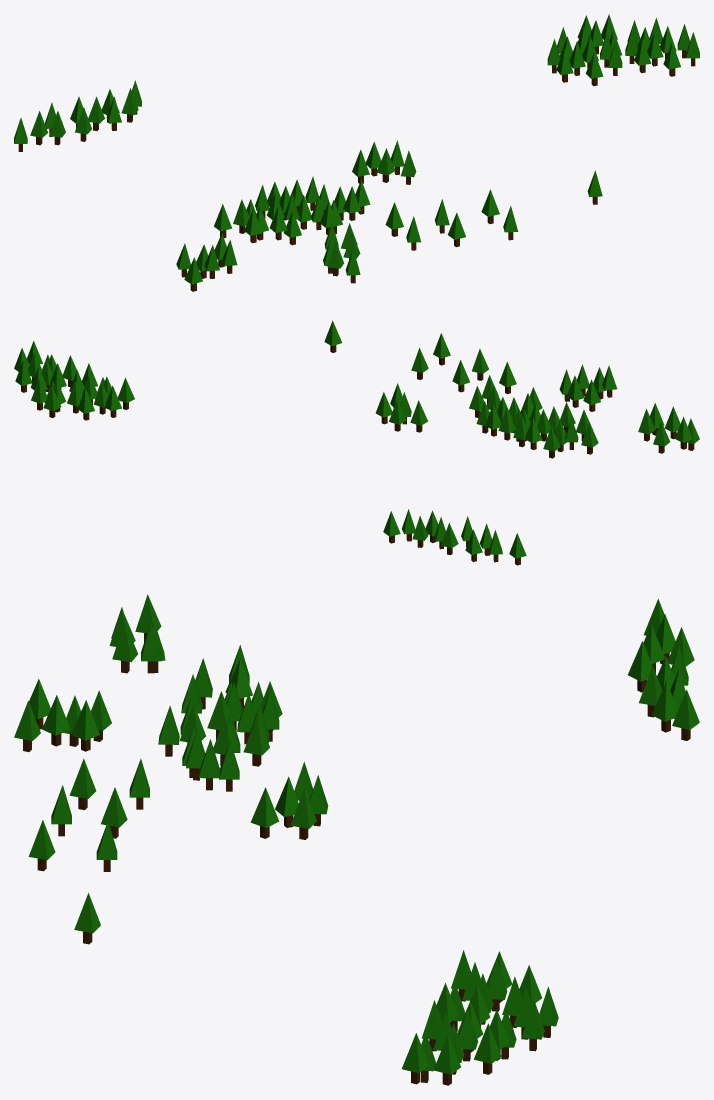
The model's file is trees.fbx.
3 renders of one model, top to bottom at view 1: azimuth 30°, elevation 25°; view 2: azimuth 150°, elevation 25°; view 3: azimuth 270°, elevation 25°, orthographic. The views are drawn at different scales.
Visible parts, largest first — view 1: Cube_83; view 2: Cube_83; view 3: Cube_83.
Part boxes in pixels (<box>): Cube_83: <box>14,14,699,291</box>; Cube_83: <box>14,320,699,565</box>; Cube_83: <box>14,594,699,1085</box>.
Bounding box in the file's own units: 31052 × 1992 × 19952.
